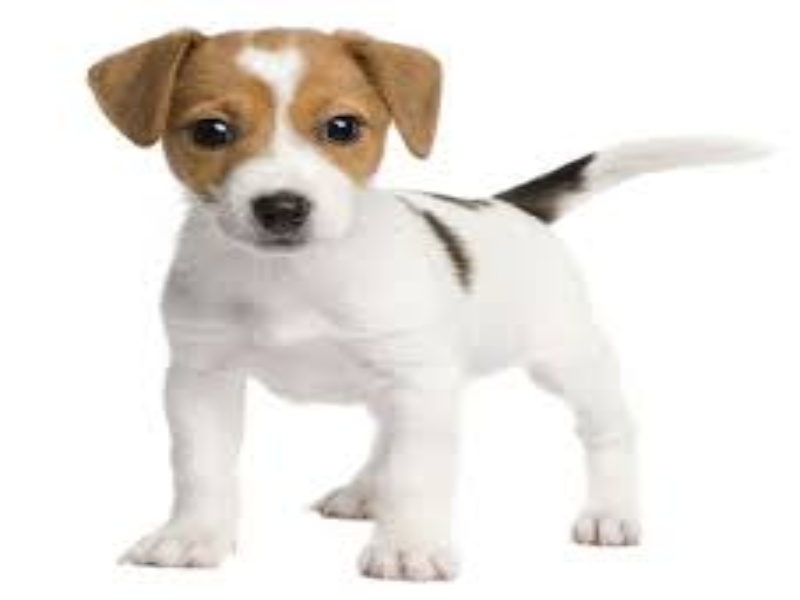dog: (81, 22, 782, 587)
